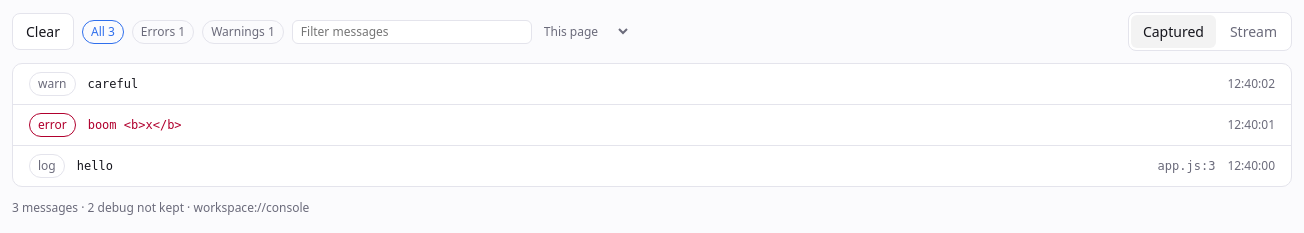
Scenario: rows are text, never markup, and the footer reads as the board does
Expected: the text "boom <b>x</b>" is shown, [88, 118, 182, 132]
Expected: the text "app.js:3" is shown, [1158, 157, 1215, 175]
Click the button "Errors 1": [163, 32] box [132, 20, 194, 44]
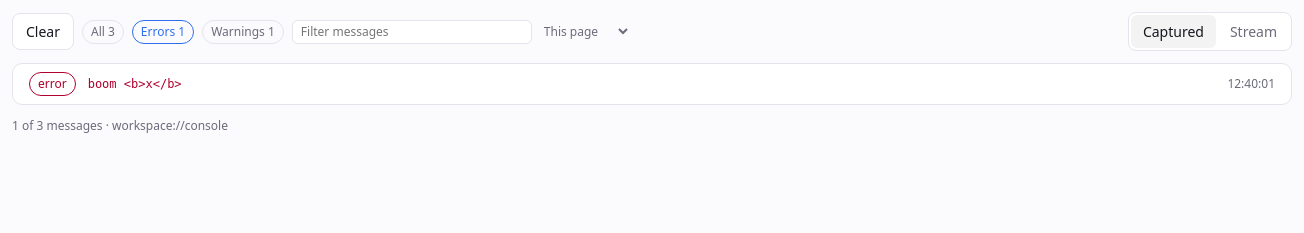
Result: the text "1 of 3 messages · workspace://console" is shown at [12, 117, 228, 134]
